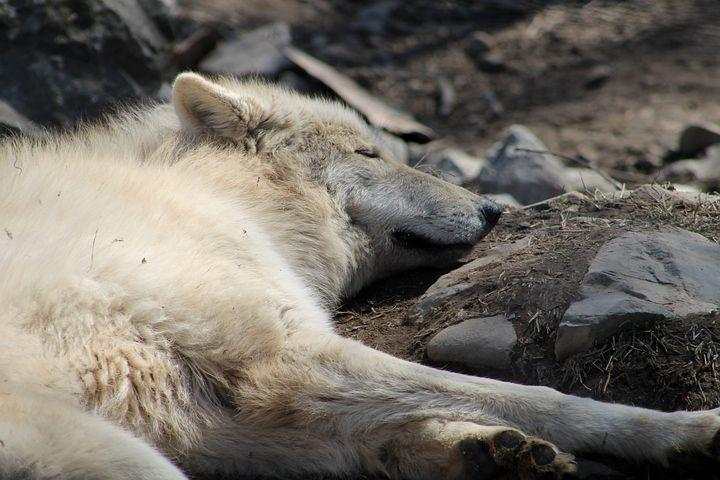fox: (0, 72, 720, 480)
